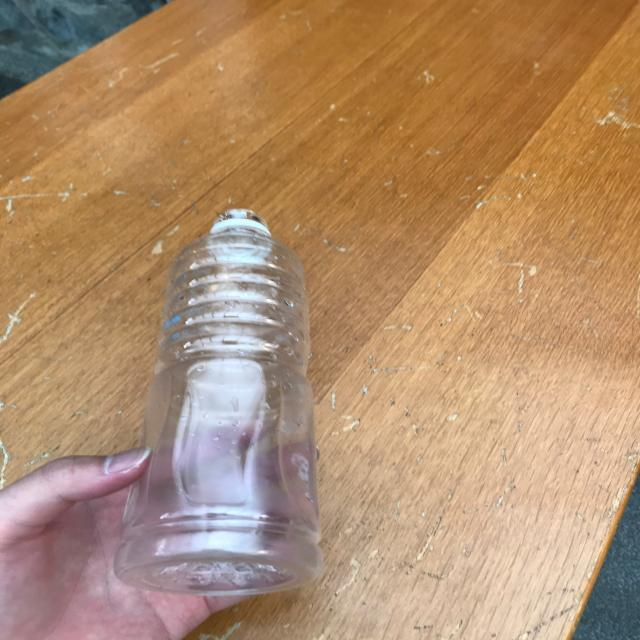plastic_bottle: (113, 209, 323, 596)
